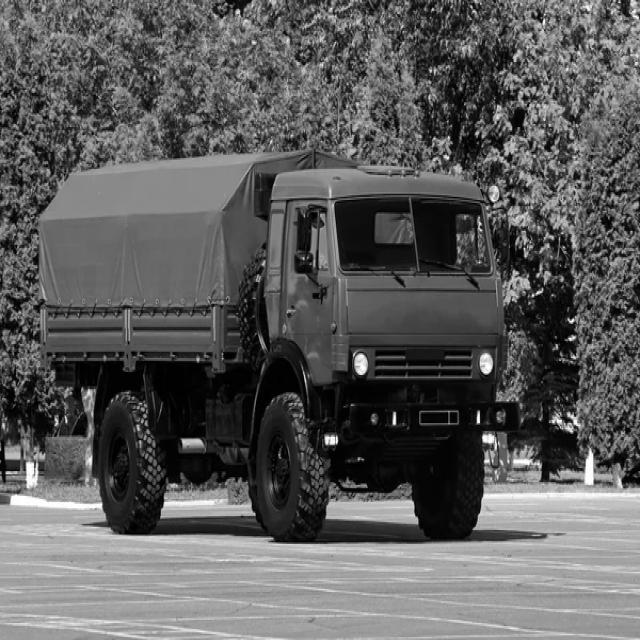Truck: (41, 149, 520, 541)
